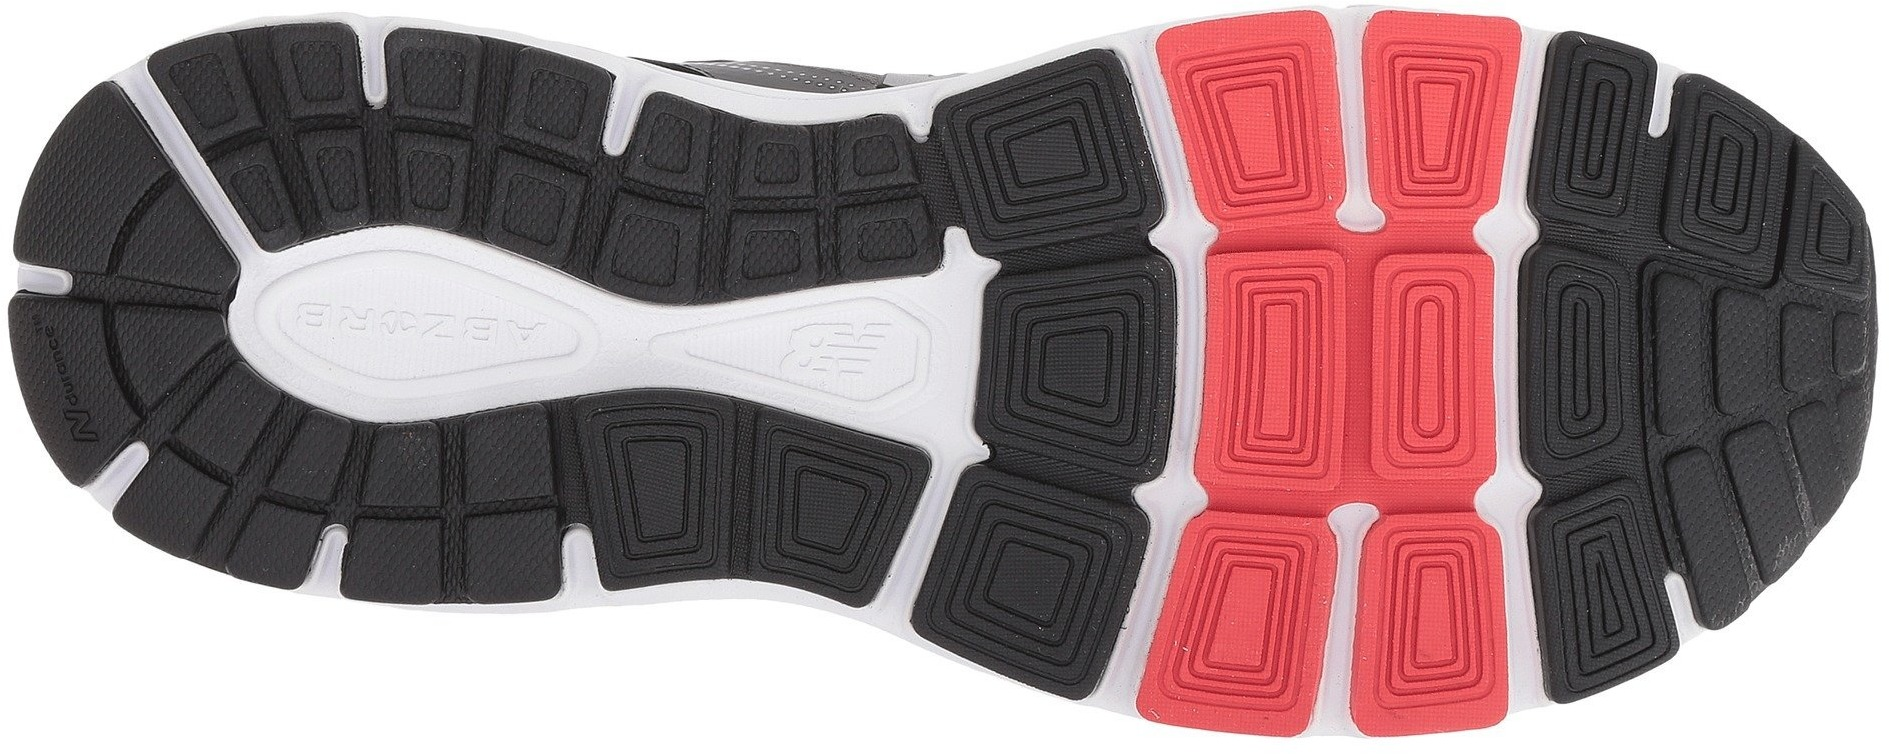quad: (963, 76, 1366, 509), (1379, 76, 1750, 460), (1387, 469, 1658, 737), (382, 35, 612, 242), (607, 387, 813, 587), (722, 111, 928, 304)
ribbon: (346, 213, 608, 459)
